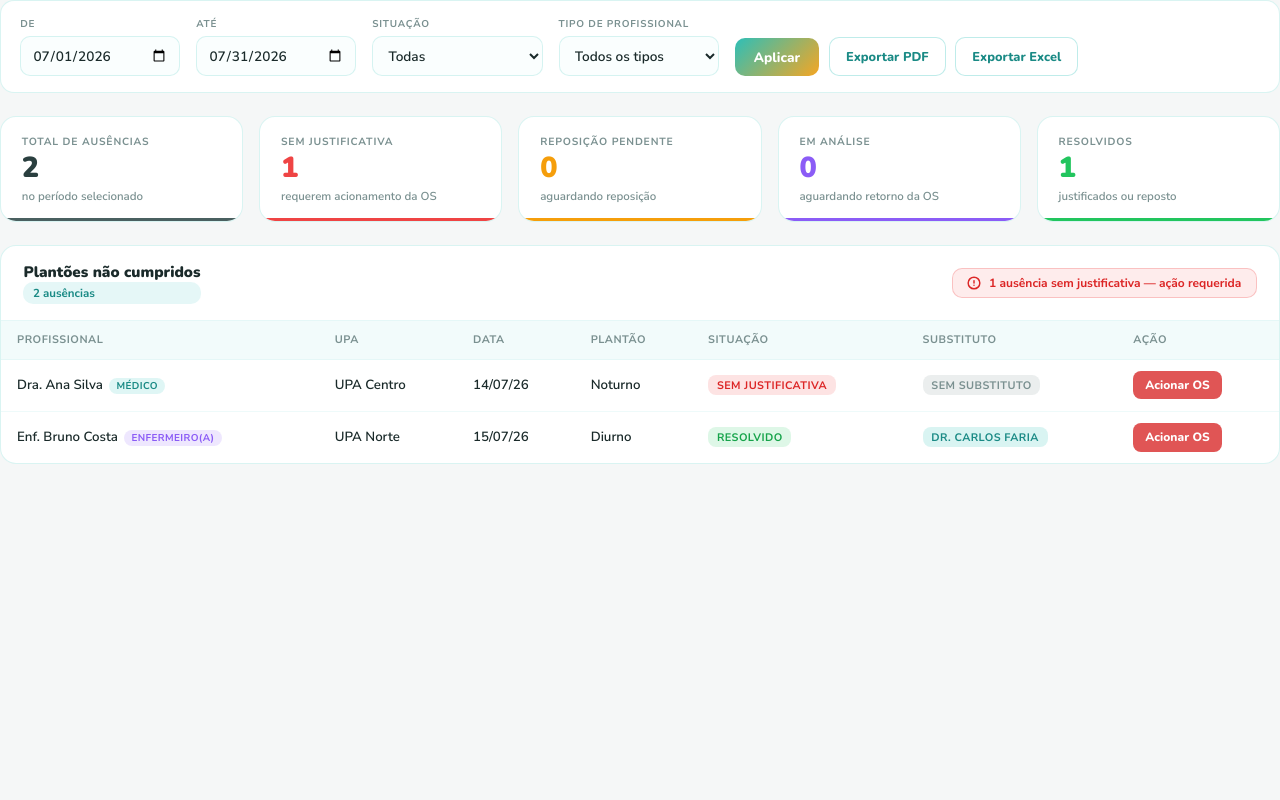
Test: <PrefeituraAusencias /> › clicar em "Acionar OS" abre modal com role="dialog"
Click the button "Acionar OS" in the row of "Dra. Ana Silva".
click(1178, 385)  # box [1133,371,1222,400]
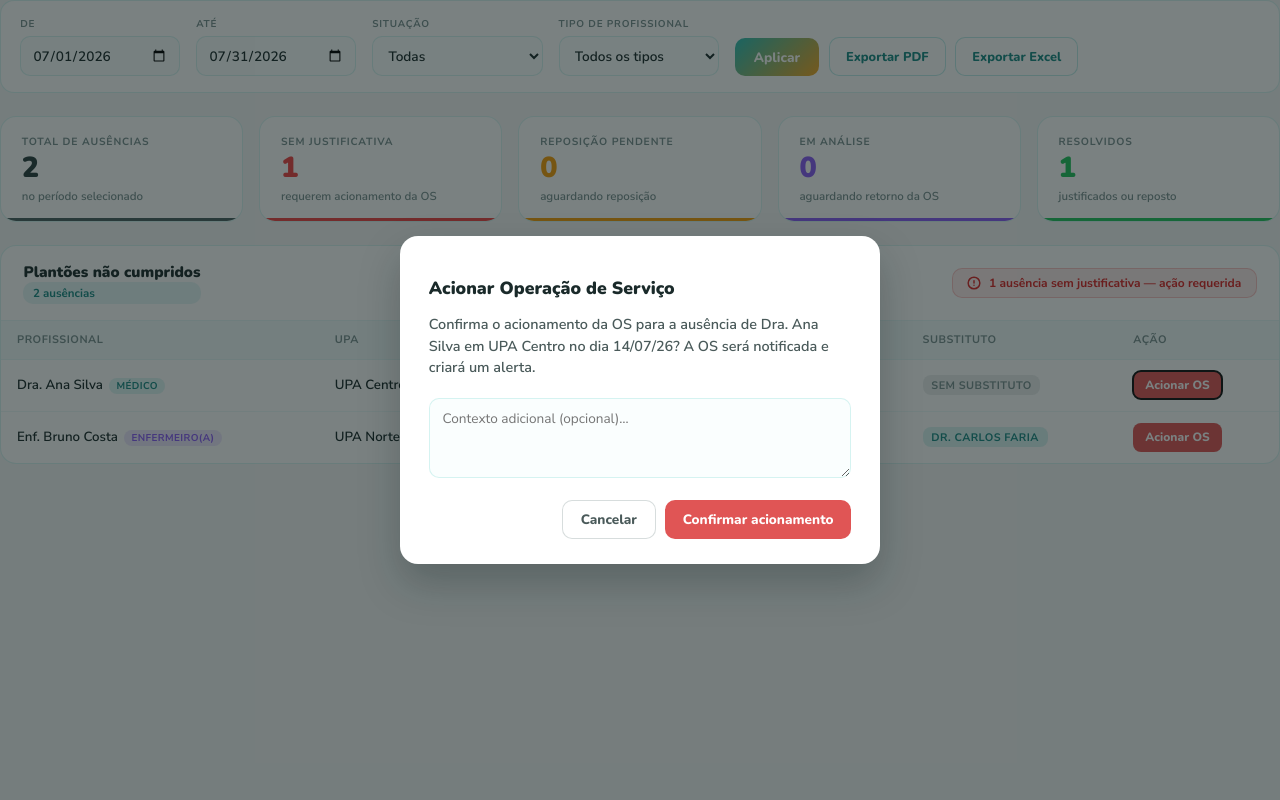
Expected: the dialog is shown
Expected: the heading "Acionar Operação de Serviço" is shown, [429,276,675,300]
